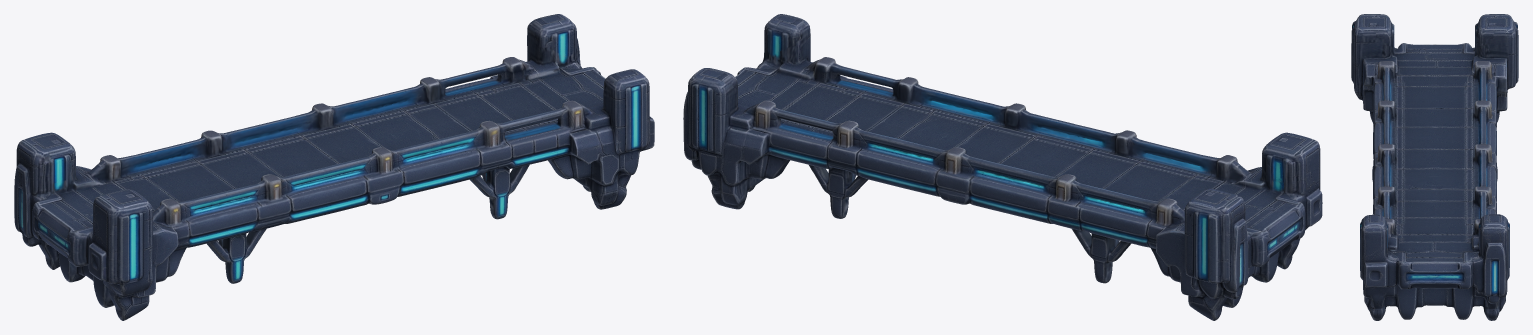
File: Neon_Skybridge.glb
The picture shows the model from 3 angles, left to right: view 1: azimuth 30°, elevation 25°; view 2: azimuth 150°, elevation 25°; view 3: azimuth 270°, elevation 25°; orthographic projection. The views are drawn at different scales.
Size of the model in its own units: 1.9 by 0.4204 by 0.6049.
1 material, 1 textured.
